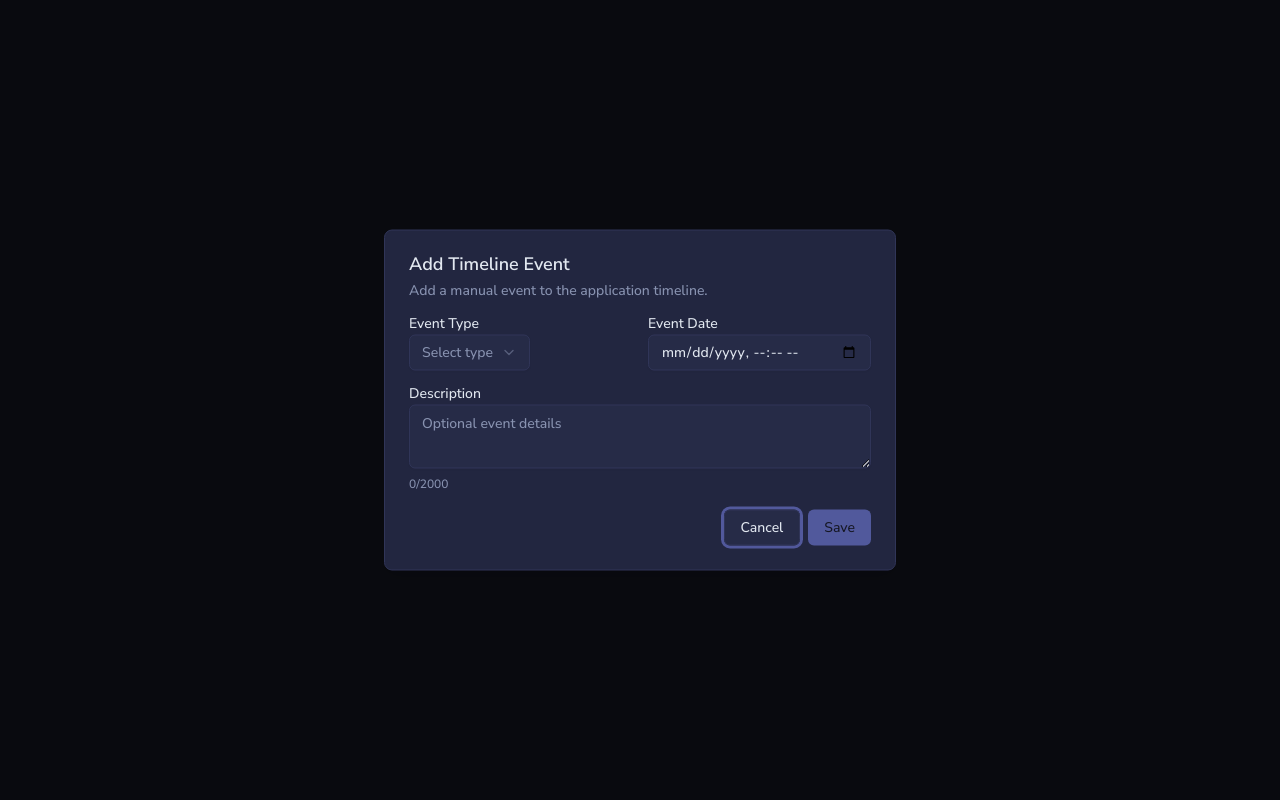
Test: AddTimelineEventDialog › conditional interview stage › shows interview stage when interview_scheduled is selected
This screenshot has width=1280, height=800.
// Select interview_scheduled
Click the dropdown with test id "event-type-select" at point(470, 352), box [409,334,530,370]
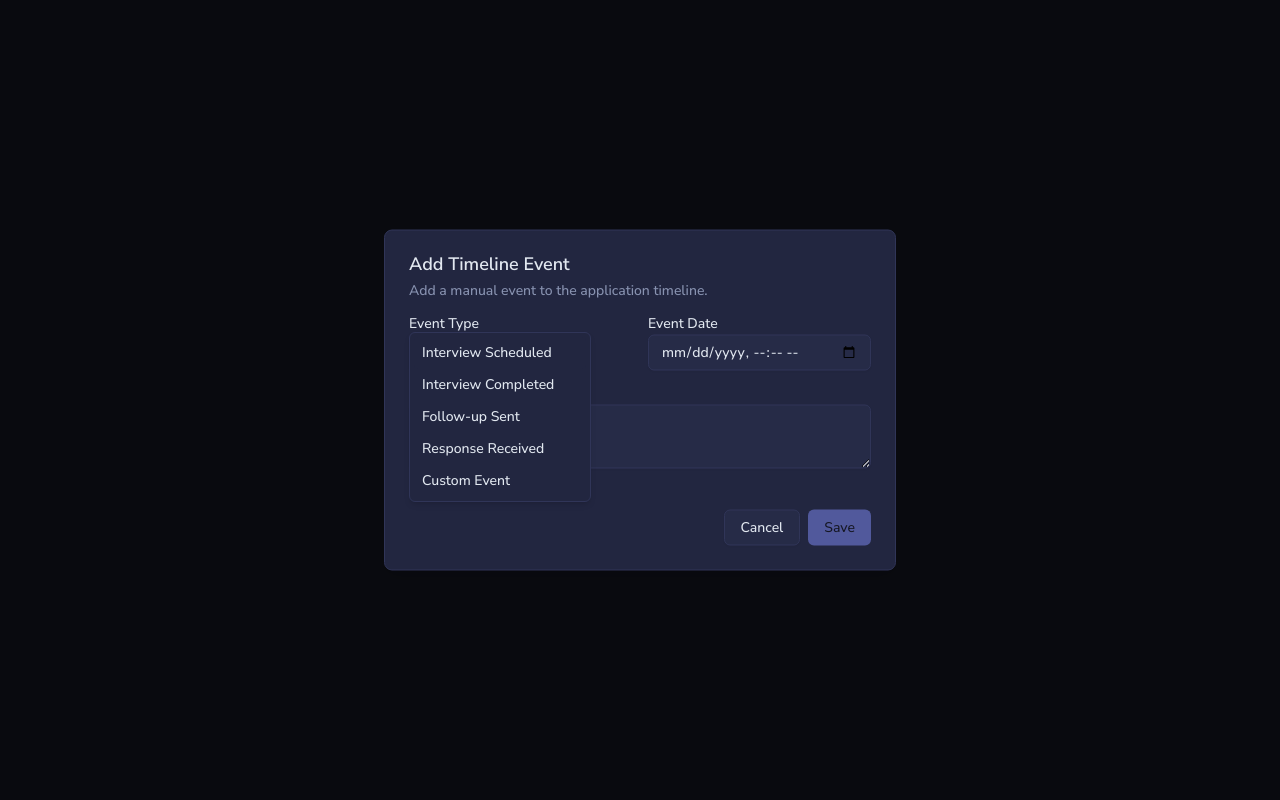
Result: the option "Interview Scheduled" is shown
Click the option "Interview Scheduled" at point(500, 352), box [414,336,586,368]
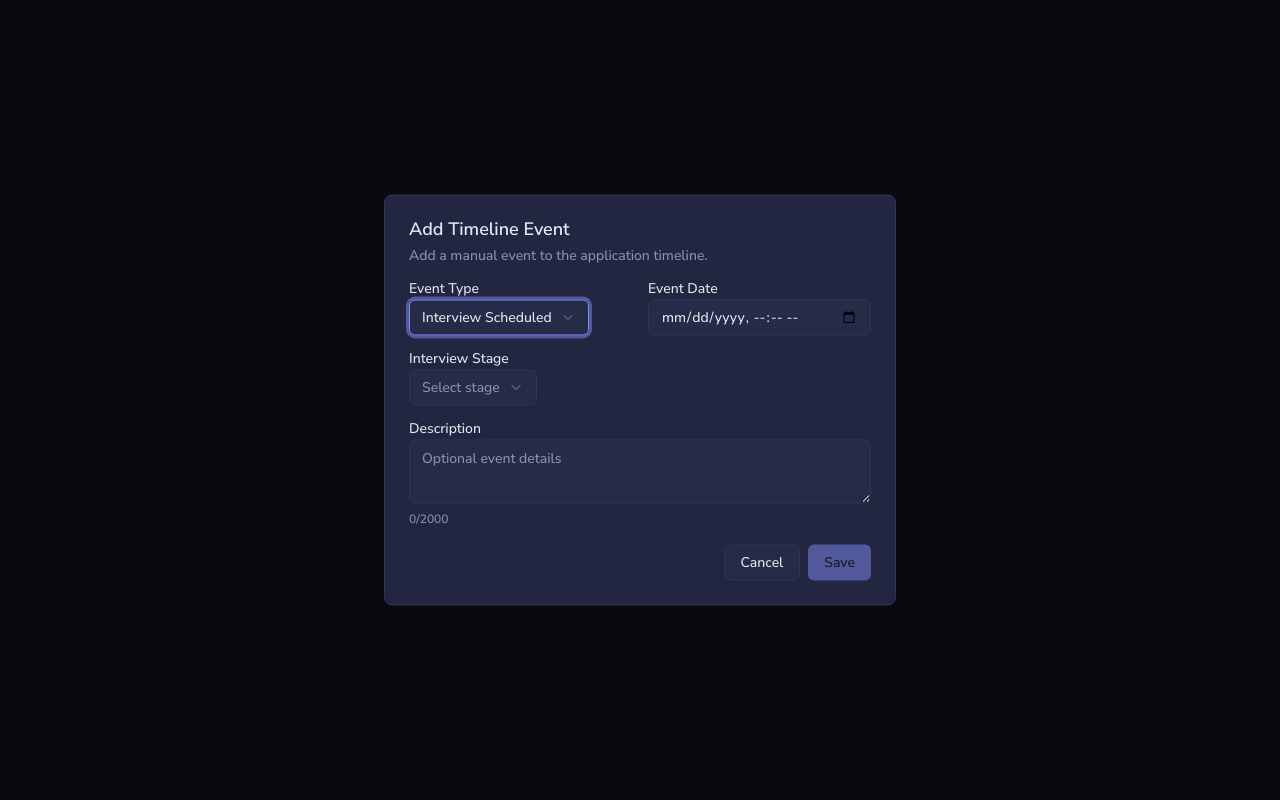
Result: the dropdown named "Interview Stage" is shown at [409,370,537,406]
